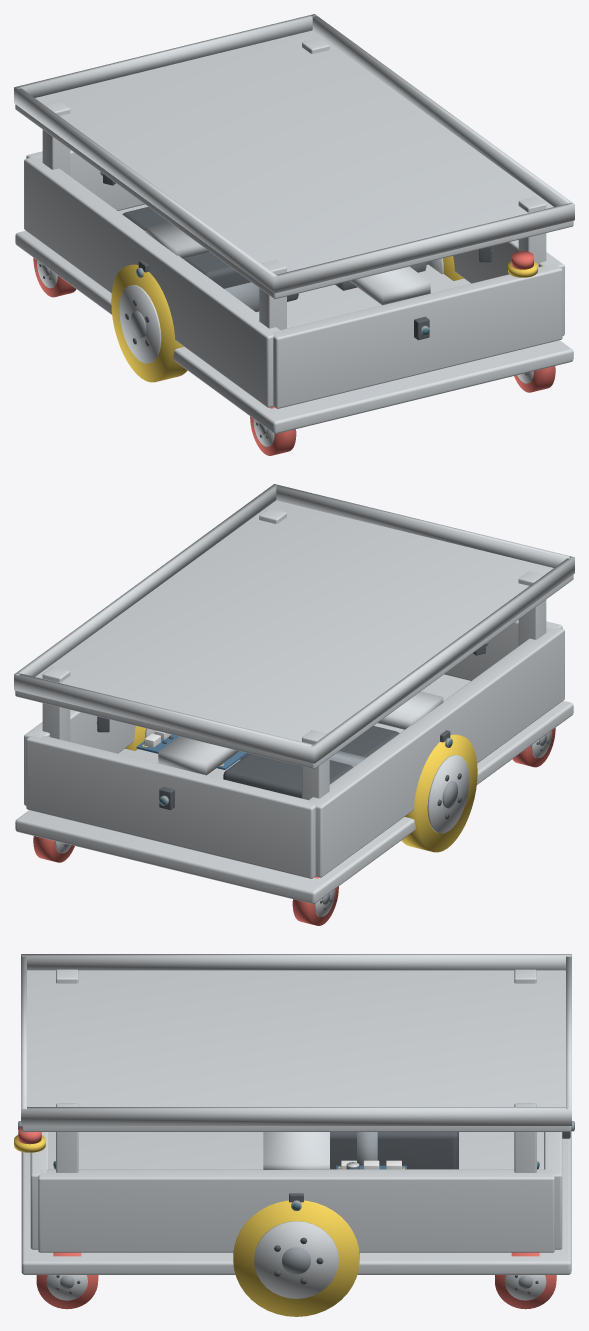
Rendered from autonomous-mobile-robot.glb.
3 views of the same model, one above another, from view 1: azimuth 30°, elevation 25°; view 2: azimuth 150°, elevation 25°; view 3: azimuth 270°, elevation 25° (orthographic). The views are drawn at different scales.
Visible parts, largest first — view 1: Tray_0216, End_Rail_0004, Side_Rail_0002, Base_Plate_0001, Lip_0219, Lip_0217, Lip_0220, Lip_0218, Tire_0070, Rim_0071, Side_Rail_0003, Long_Brace_0173 (+9 smaller); view 2: Tray_0216, End_Rail_0005, Side_Rail_0002, Base_Plate_0001, Lip_0220, Lip_0217, Lip_0219, Lip_0218, Battery_0102, Tire_0070, Side_Rail_0003, Rim_0071 (+8 smaller); view 3: Tray_0216, Side_Rail_0003, Base_Plate_0001, Lip_0218, Lip_0217, Tire_0086, Rim_0094, Battery_0102, Cross_Brace_0172, End_Rail_0005, End_Rail_0004, Tire_0039 (+9 smaller).
Boxes of the visible parts, left/top/right/bottom form: Tray_0216: left=15, top=30, right=573, bottom=298; End_Rail_0004: left=272, top=264, right=562, bottom=408; Side_Rail_0002: left=24, top=157, right=281, bottom=407; Base_Plate_0001: left=15, top=204, right=573, bottom=433; Lip_0219: left=274, top=202, right=574, bottom=293; Lip_0217: left=14, top=86, right=277, bottom=293; Lip_0220: left=16, top=14, right=316, bottom=97; Lip_0218: left=311, top=14, right=574, bottom=206; Tire_0070: left=111, top=264, right=187, bottom=382; Rim_0071: left=119, top=285, right=161, bottom=363; Side_Rail_0003: left=453, top=240, right=564, bottom=335; Long_Brace_0173: left=349, top=266, right=430, bottom=305; Tray_0216: left=15, top=500, right=573, bottom=768; End_Rail_0005: left=26, top=734, right=316, bottom=878; Side_Rail_0002: left=307, top=626, right=564, bottom=877; Base_Plate_0001: left=15, top=674, right=573, bottom=903; Lip_0220: left=14, top=673, right=314, bottom=763; Lip_0217: left=310, top=556, right=574, bottom=763; Lip_0219: left=272, top=484, right=572, bottom=567; Lip_0218: left=14, top=484, right=277, bottom=676; Battery_0102: left=223, top=726, right=399, bottom=798; Tire_0070: left=401, top=734, right=477, bottom=852; Side_Rail_0003: left=24, top=710, right=135, bottom=805; Rim_0071: left=427, top=755, right=469, bottom=833; Tray_0216: left=21, top=970, right=571, bottom=1131; Side_Rail_0003: left=38, top=1169, right=554, bottom=1252; Base_Plate_0001: left=21, top=1131, right=571, bottom=1274; Lip_0218: left=21, top=1107, right=571, bottom=1125; Lip_0217: left=21, top=954, right=571, bottom=970; Tire_0086: left=233, top=1200, right=359, bottom=1316; Rim_0094: left=254, top=1221, right=338, bottom=1298; Battery_0102: left=330, top=1132, right=458, bottom=1169; Cross_Brace_0172: left=263, top=1132, right=329, bottom=1169; End_Rail_0005: left=544, top=1132, right=562, bottom=1249; End_Rail_0004: left=30, top=1132, right=48, bottom=1249; Tire_0039: left=36, top=1252, right=98, bottom=1309.
Bounding box in the file's own units: 0.4594 × 0.273 × 0.6732.
